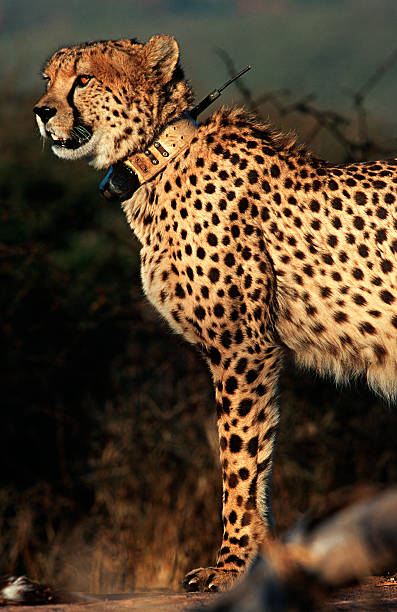cheetah: (21, 25, 201, 178)
